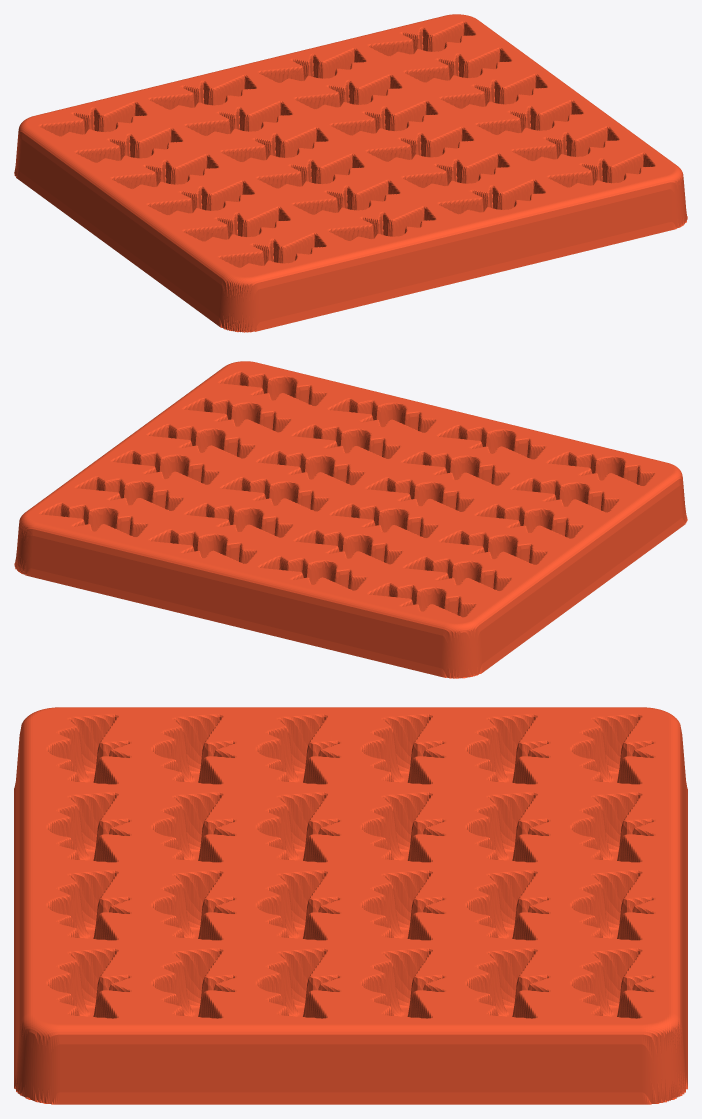
Rendered from mold.glb.
3 views of the same model, one above another, from view 1: azimuth 30°, elevation 25°; view 2: azimuth 150°, elevation 25°; view 3: azimuth 270°, elevation 25° (orthographic). The views are drawn at different scales.
Visible parts, largest first — view 1: geometry_0; view 2: geometry_0; view 3: geometry_0.
Boxes of the visible parts, x1,y1,x2,y2 form: geometry_0: (14, 14, 687, 332); geometry_0: (14, 361, 687, 678); geometry_0: (14, 707, 687, 1104).
Bounding box in the file's own units: 0.1561 × 0.0159 × 0.1342.
